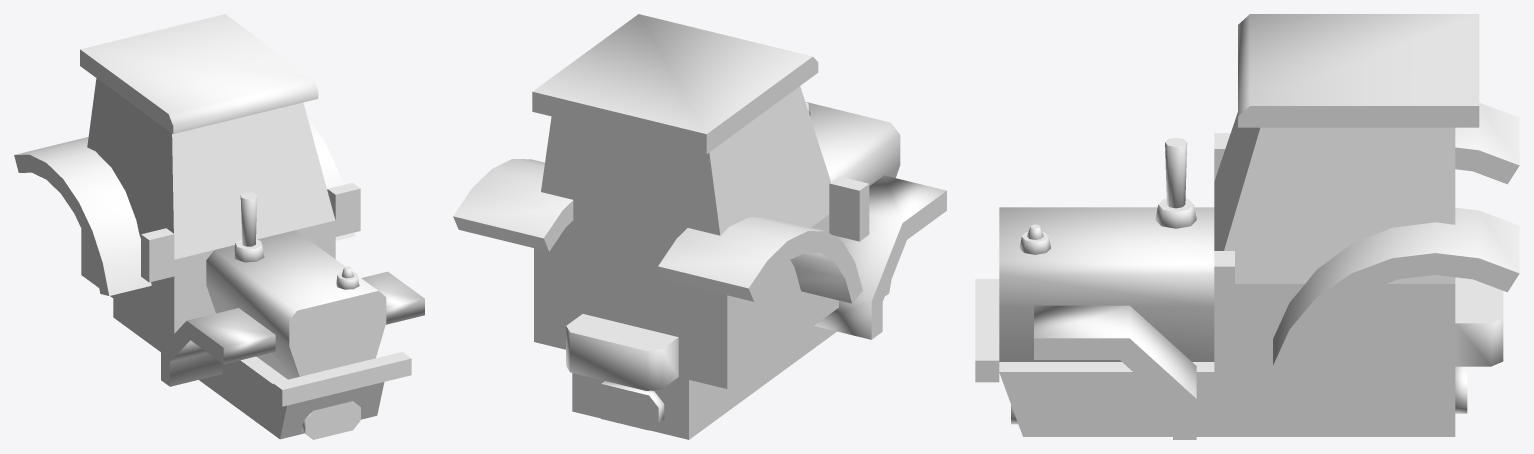
The model's file is tractor-vehicle.glb.
The picture shows the model from 3 angles, left to right: view 1: azimuth 30°, elevation 25°; view 2: azimuth 150°, elevation 25°; view 3: azimuth 270°, elevation 25°; orthographic projection. The views are drawn at different scales.
Parts seen in each view (by area): view 1: tractor-vehicle; view 2: tractor-vehicle; view 3: tractor-vehicle.
Boxes of the visible parts, box(x1,y1,x2,y2) form: tractor-vehicle: box(14, 14, 424, 439); tractor-vehicle: box(453, 14, 946, 439); tractor-vehicle: box(975, 14, 1519, 439).
Size of the model in its own units: 1.34 by 1.41 by 1.98.
1 material, 1 textured.
